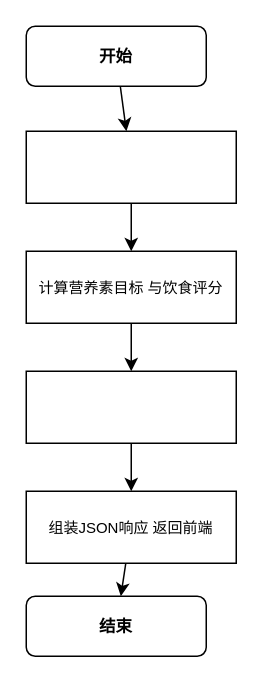
This 263x683 diagram has some shape labels left out. The box of each missing label's shape, as (x1, y1, x2, y2) in pixels:
判断摄入状态 获取BMI与健康评估: (25, 370, 236, 443)
查询饮食记录 累加摄入量: (25, 130, 236, 203)
